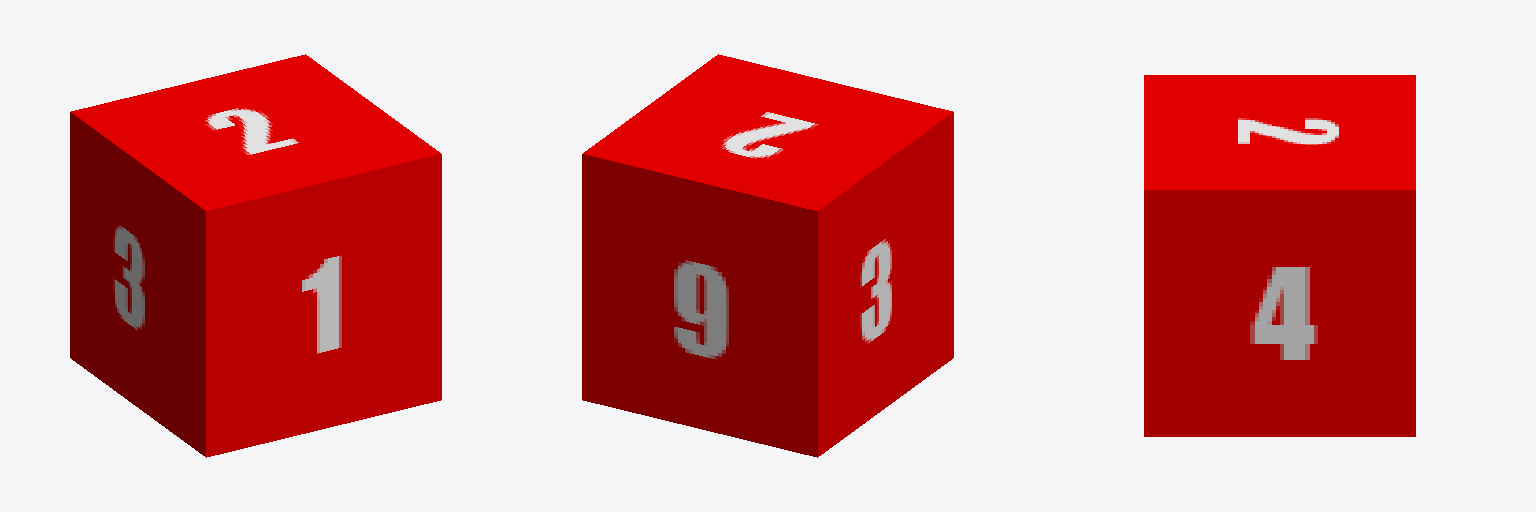
3 views of the same model, side by side, from view 1: azimuth 30°, elevation 25°; view 2: azimuth 150°, elevation 25°; view 3: azimuth 270°, elevation 25° (orthographic).
Parts seen in each view (by area): view 1: pCube1; view 2: pCube1; view 3: pCube1.
Boxes of the visible parts, x1,y1,x2,y2 form: pCube1: [70, 54, 441, 457]; pCube1: [582, 54, 953, 457]; pCube1: [1144, 75, 1415, 436].
Size of the model in its own units: 6 by 6 by 6.
1 materials, 1 textured.